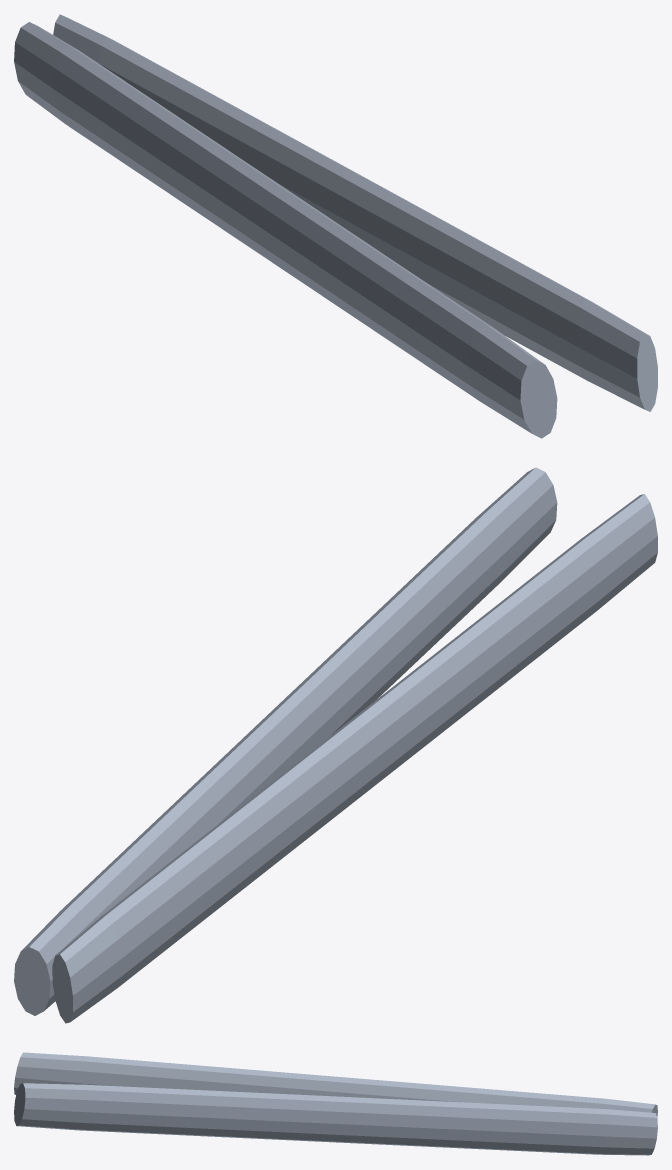
The model's file is tongs.glb.
3 renders of one model, top to bottom at view 1: azimuth 30°, elevation 25°; view 2: azimuth 150°, elevation 25°; view 3: azimuth 270°, elevation 25°, orthographic. The views are drawn at different scales.
Visible parts, largest first — view 1: model; view 2: model; view 3: model.
Boxes of the visible parts, x1,y1,x2,y2 form: model: [14, 14, 657, 438]; model: [14, 467, 657, 1023]; model: [14, 1052, 657, 1155].
Size of the model in its own units: 0.05 by 0.05 by 0.35.
